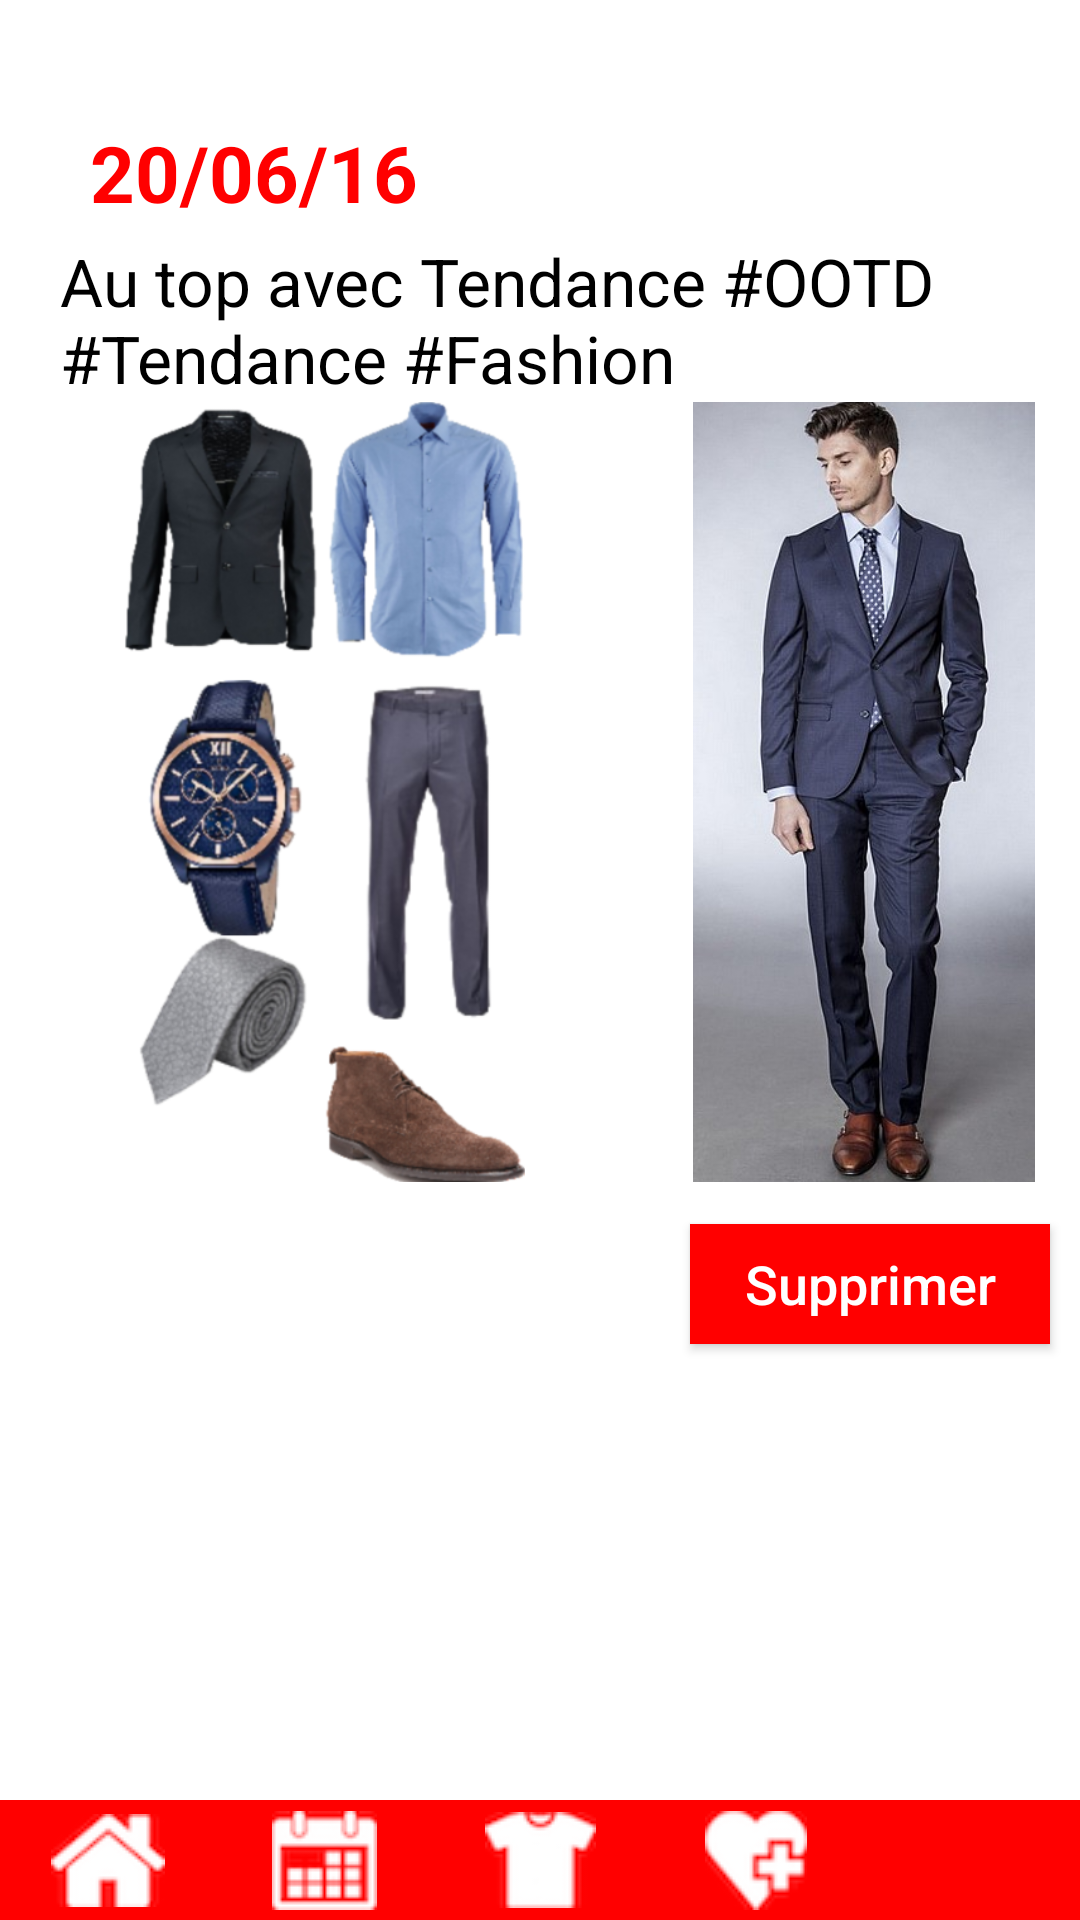

Icons on this 1080×1920 Android screen, each with its box as (x1, y1, x2, y2):
calendar: (272, 1811, 377, 1910)
home: (51, 1814, 165, 1907)
tshirt: (485, 1812, 596, 1908)
